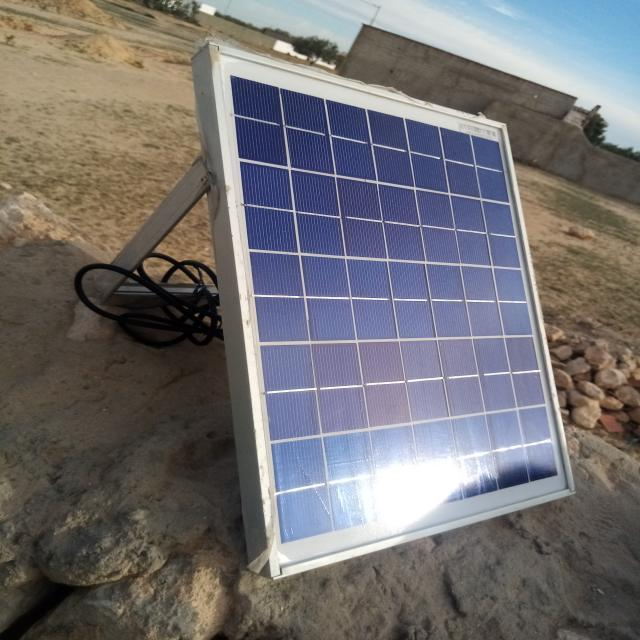no faulty: (211, 49, 576, 577)
